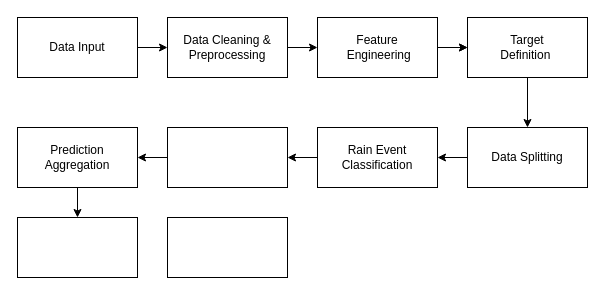
This 605x295 diagram has some shape labels left out. Here are the shapes that lost their labels. From the top down, the box of each, then its label:
(166, 126, 288, 188): Rainfall Regression
(16, 216, 138, 278): Model Evaluation
(166, 216, 288, 278): Visualization
